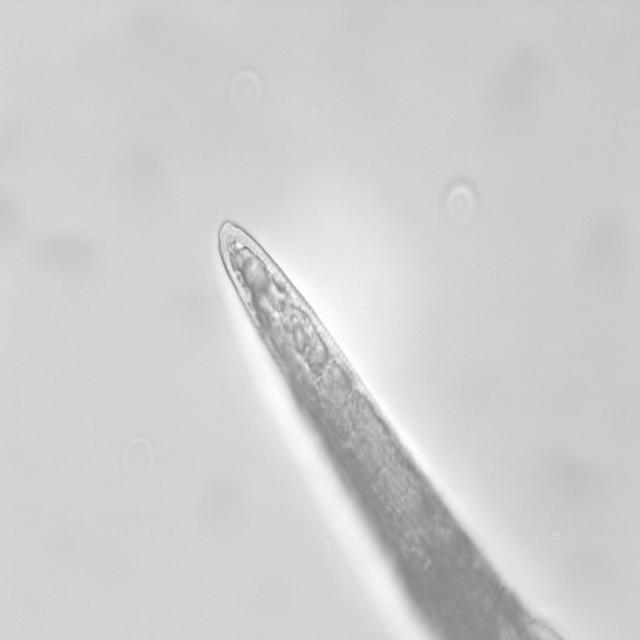Pratylenchus: (190, 216, 390, 435)
